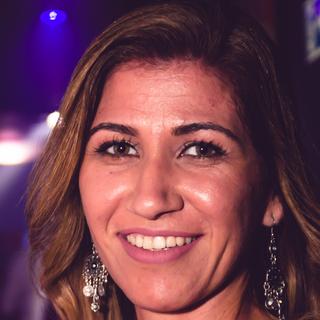eye: (171, 140, 229, 163), (92, 139, 143, 164)
